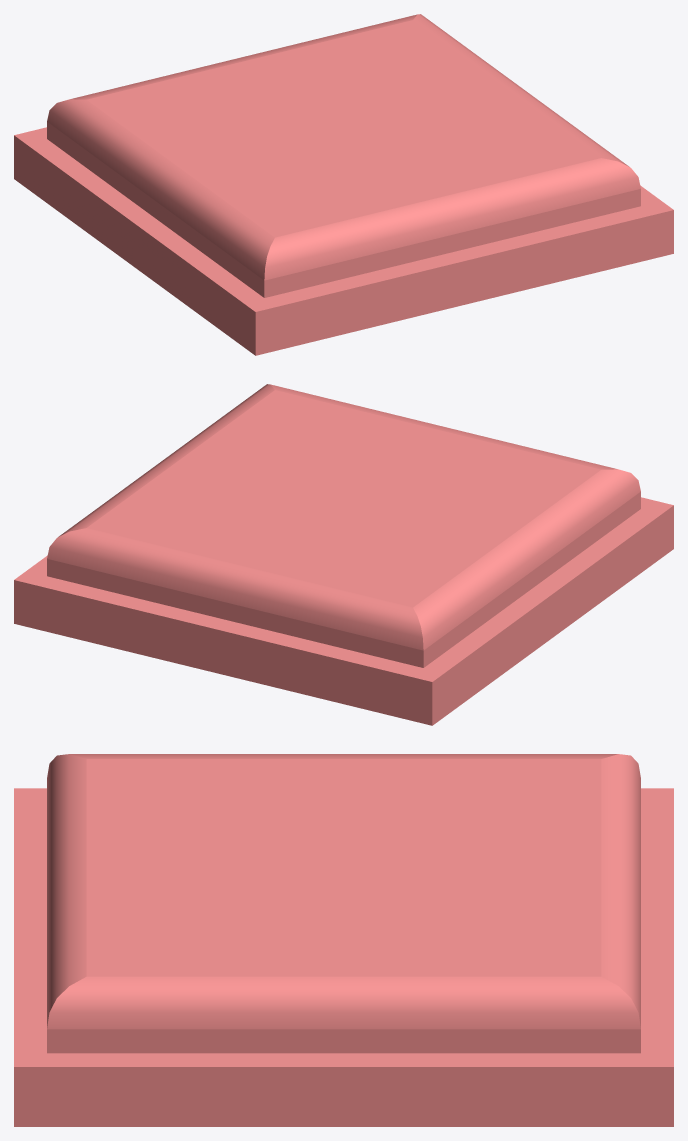
The model's file is Light_DengPian3_1X1_off.FBX.
3 views of the same model, one above another, from view 1: azimuth 30°, elevation 25°; view 2: azimuth 150°, elevation 25°; view 3: azimuth 270°, elevation 25° (orthographic). The views are drawn at different scales.
Visible parts, largest first — view 1: Box002; view 2: Box002; view 3: Box002.
Boxes of the visible parts, bbox=[...] form: Box002: bbox=[14, 14, 673, 355]; Box002: bbox=[14, 384, 673, 725]; Box002: bbox=[14, 754, 673, 1126].
Bounding box in the file's own units: 1 × 0.2 × 1.
